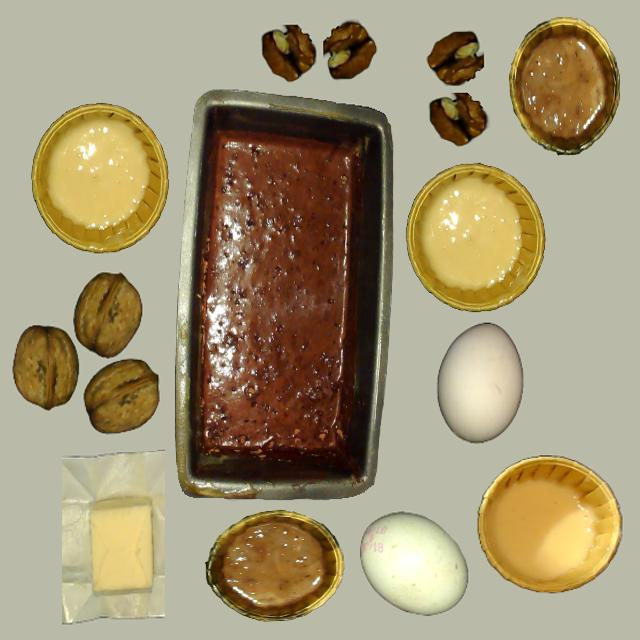Walnut: (83, 358, 158, 434), (73, 274, 142, 356), (13, 327, 79, 408)
